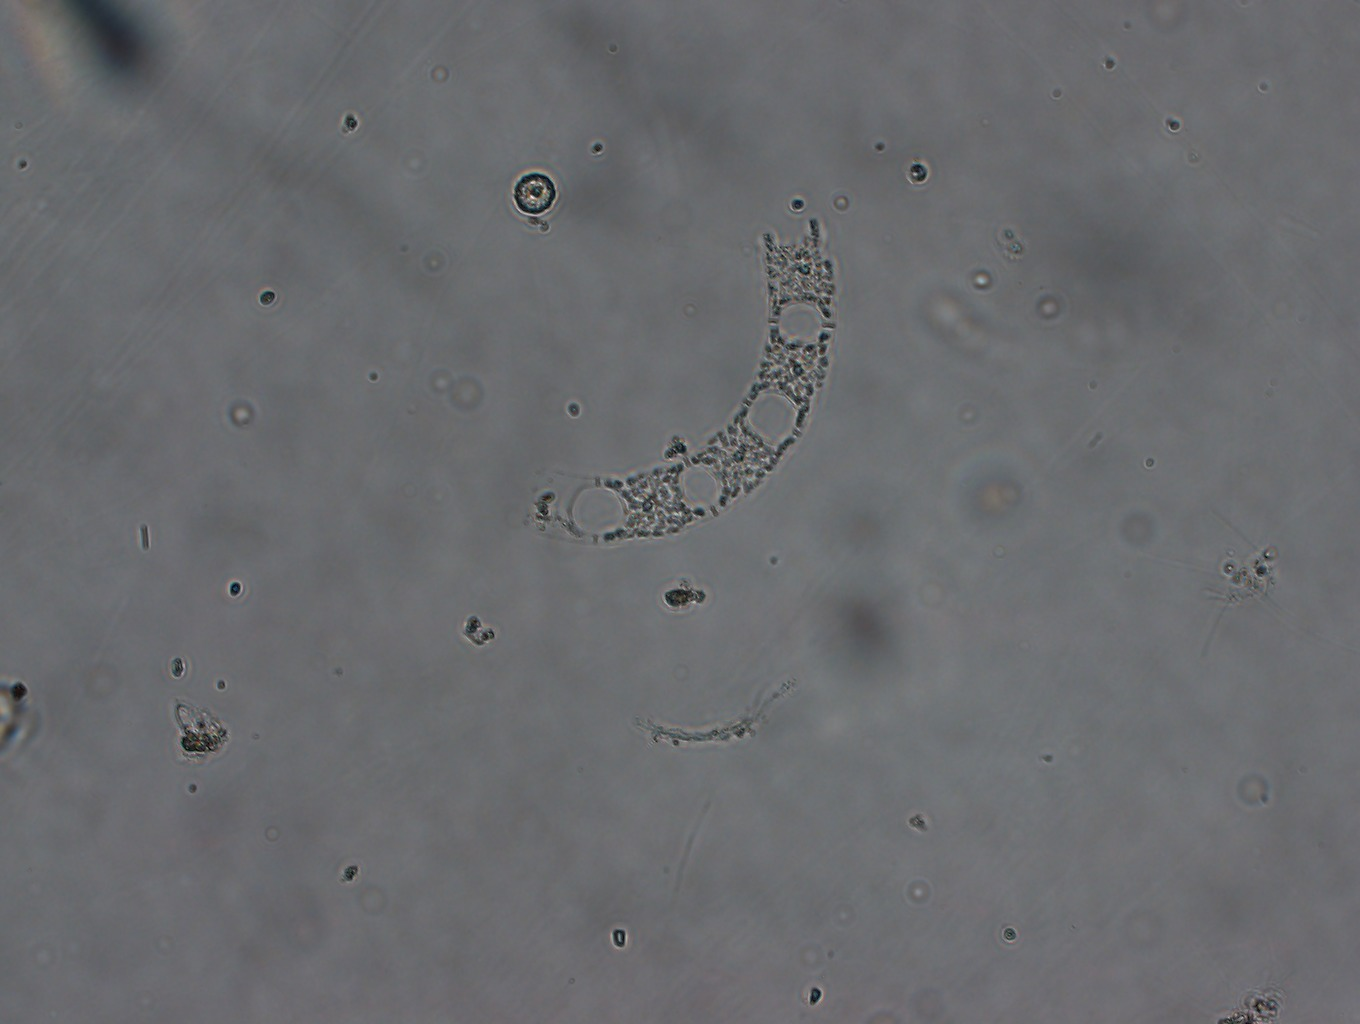eucampia: (517, 184, 846, 556)
